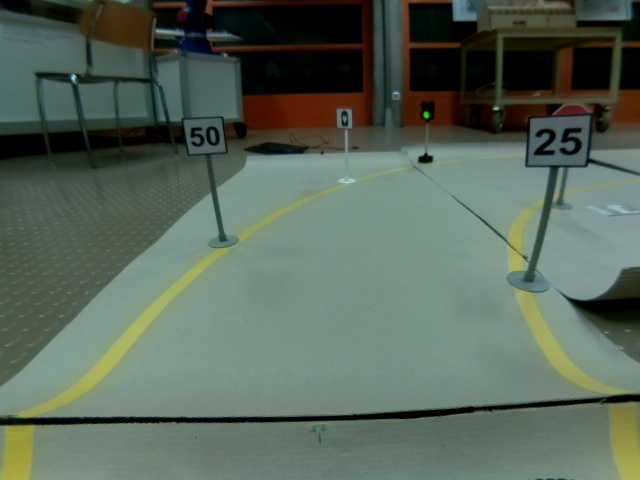battery: (335, 106, 354, 129)
speed25: (525, 111, 593, 169)
speed50: (181, 116, 229, 155)
traffic light: (418, 99, 437, 122)
